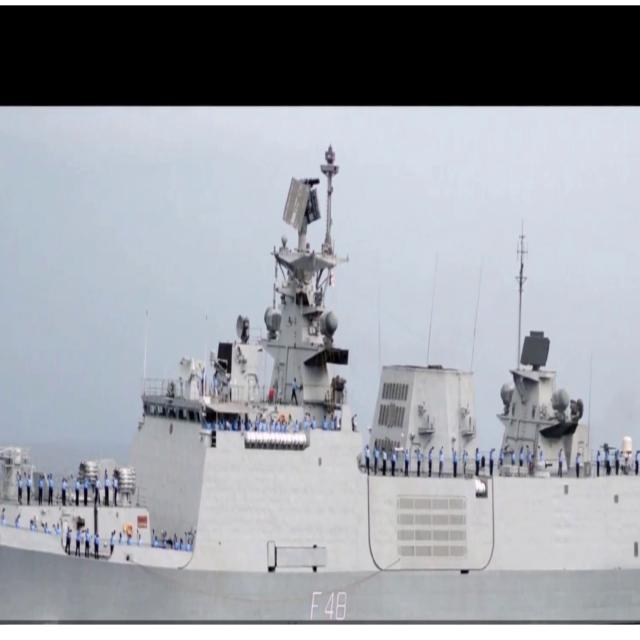OCR: (302, 585, 355, 622)
